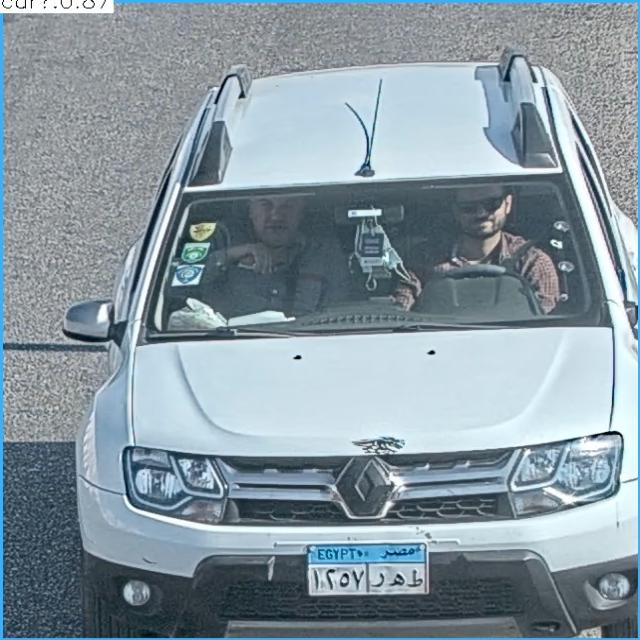windshield: (155, 180, 598, 323)
